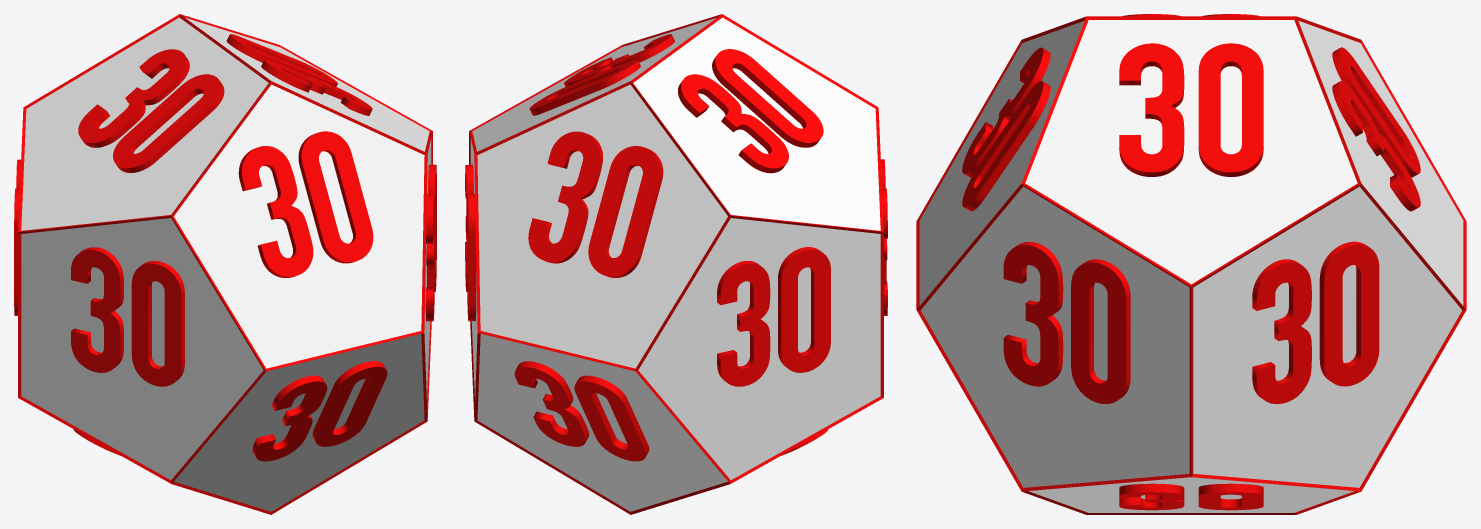
File: dodecahedron_sign-30.glb
3 renders of one model, left to right at view 1: azimuth 30°, elevation 25°; view 2: azimuth 150°, elevation 25°; view 3: azimuth 270°, elevation 25°, orthographic. The views are drawn at different scales.
Visible parts, largest first — view 1: Dodecahedron_Solid, Text20_5, Text20_11, Dodecahedron_Wire, Text20_7, Text20_10, Text20_2, Text20_6, Text20_8; view 2: Dodecahedron_Solid, Text20_0, Text20_8, Dodecahedron_Wire, Text20_7, Text20_3, Text20_2, Text20_1, Text20_11; view 3: Dodecahedron_Solid, Dodecahedron_Wire, Text20_1, Text20_6, Text20_2, Text20_0, Text20_5, Text20_4.
Boxes of the visible parts, left/top/right/bottom form: Dodecahedron_Solid: left=21, top=17, right=431, bottom=511; Text20_5: left=238, top=131, right=373, bottom=277; Text20_11: left=71, top=247, right=184, bottom=386; Dodecahedron_Wire: left=18, top=14, right=432, bottom=514; Text20_7: left=78, top=49, right=224, bottom=172; Text20_10: left=252, top=361, right=387, bottom=461; Text20_2: left=226, top=34, right=372, bottom=115; Text20_6: left=425, top=164, right=436, bottom=321; Text20_8: left=14, top=159, right=20, bottom=315; Dodecahedron_Solid: left=470, top=17, right=880, bottom=511; Text20_0: left=528, top=131, right=663, bottom=277; Text20_8: left=717, top=247, right=830, bottom=386; Dodecahedron_Wire: left=469, top=14, right=883, bottom=514; Text20_7: left=678, top=49, right=823, bottom=173; Text20_3: left=514, top=361, right=649, bottom=461; Text20_2: left=529, top=34, right=674, bottom=115; Text20_1: left=465, top=164, right=476, bottom=321; Text20_11: left=881, top=159, right=887, bottom=315; Dodecahedron_Solid: left=919, top=20, right=1463, bottom=512; Dodecahedron_Wire: left=916, top=16, right=1466, bottom=514; Text20_1: left=1252, top=241, right=1379, bottom=404; Text20_6: left=1003, top=241, right=1130, bottom=403; Text20_2: left=1119, top=43, right=1263, bottom=176; Text20_0: left=1332, top=47, right=1420, bottom=211; Text20_5: left=962, top=47, right=1050, bottom=211; Text20_4: left=1119, top=483, right=1263, bottom=510.
Bounding box in the file's own units: 3.26 × 3.26 × 3.26.
